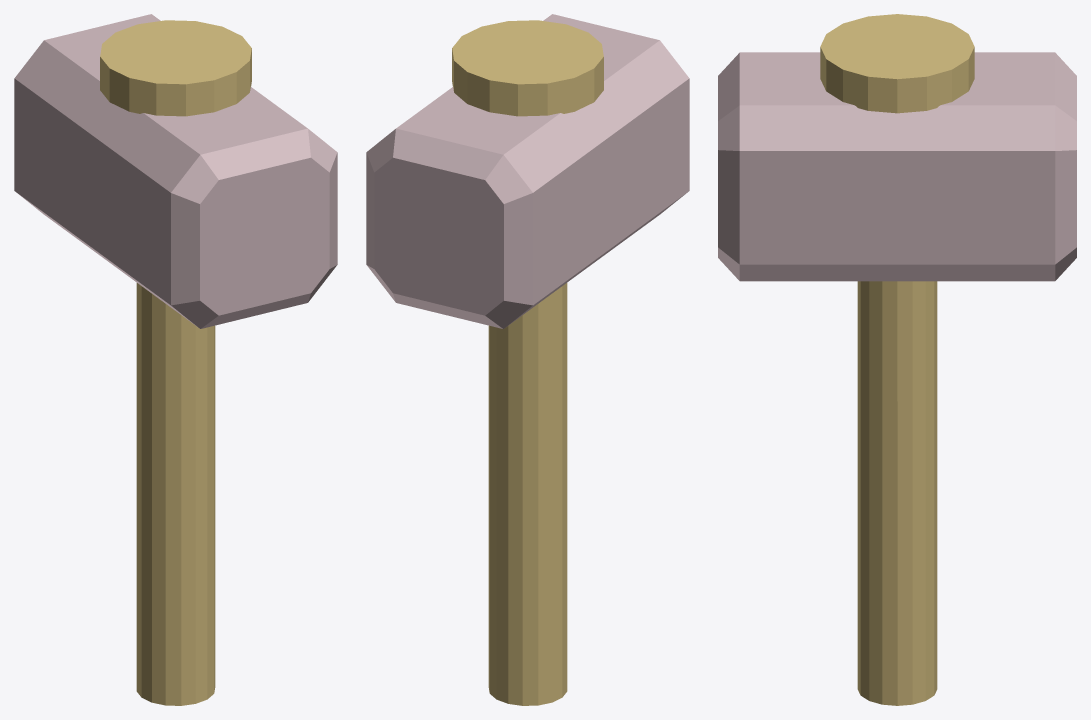
The model's file is hammer.fbx.
3 views of the same model, side by side, from view 1: azimuth 30°, elevation 25°; view 2: azimuth 150°, elevation 25°; view 3: azimuth 270°, elevation 25° (orthographic).
Visible parts, largest first — view 1: Cylinder.001; view 2: Cylinder.001; view 3: Cylinder.001.
Boxes of the visible parts, x1,y1,x2,y2 form: Cylinder.001: [14, 14, 337, 705]; Cylinder.001: [366, 14, 689, 705]; Cylinder.001: [718, 14, 1076, 705].
Size of the model in its own units: 29.89 by 109 by 55.25.
